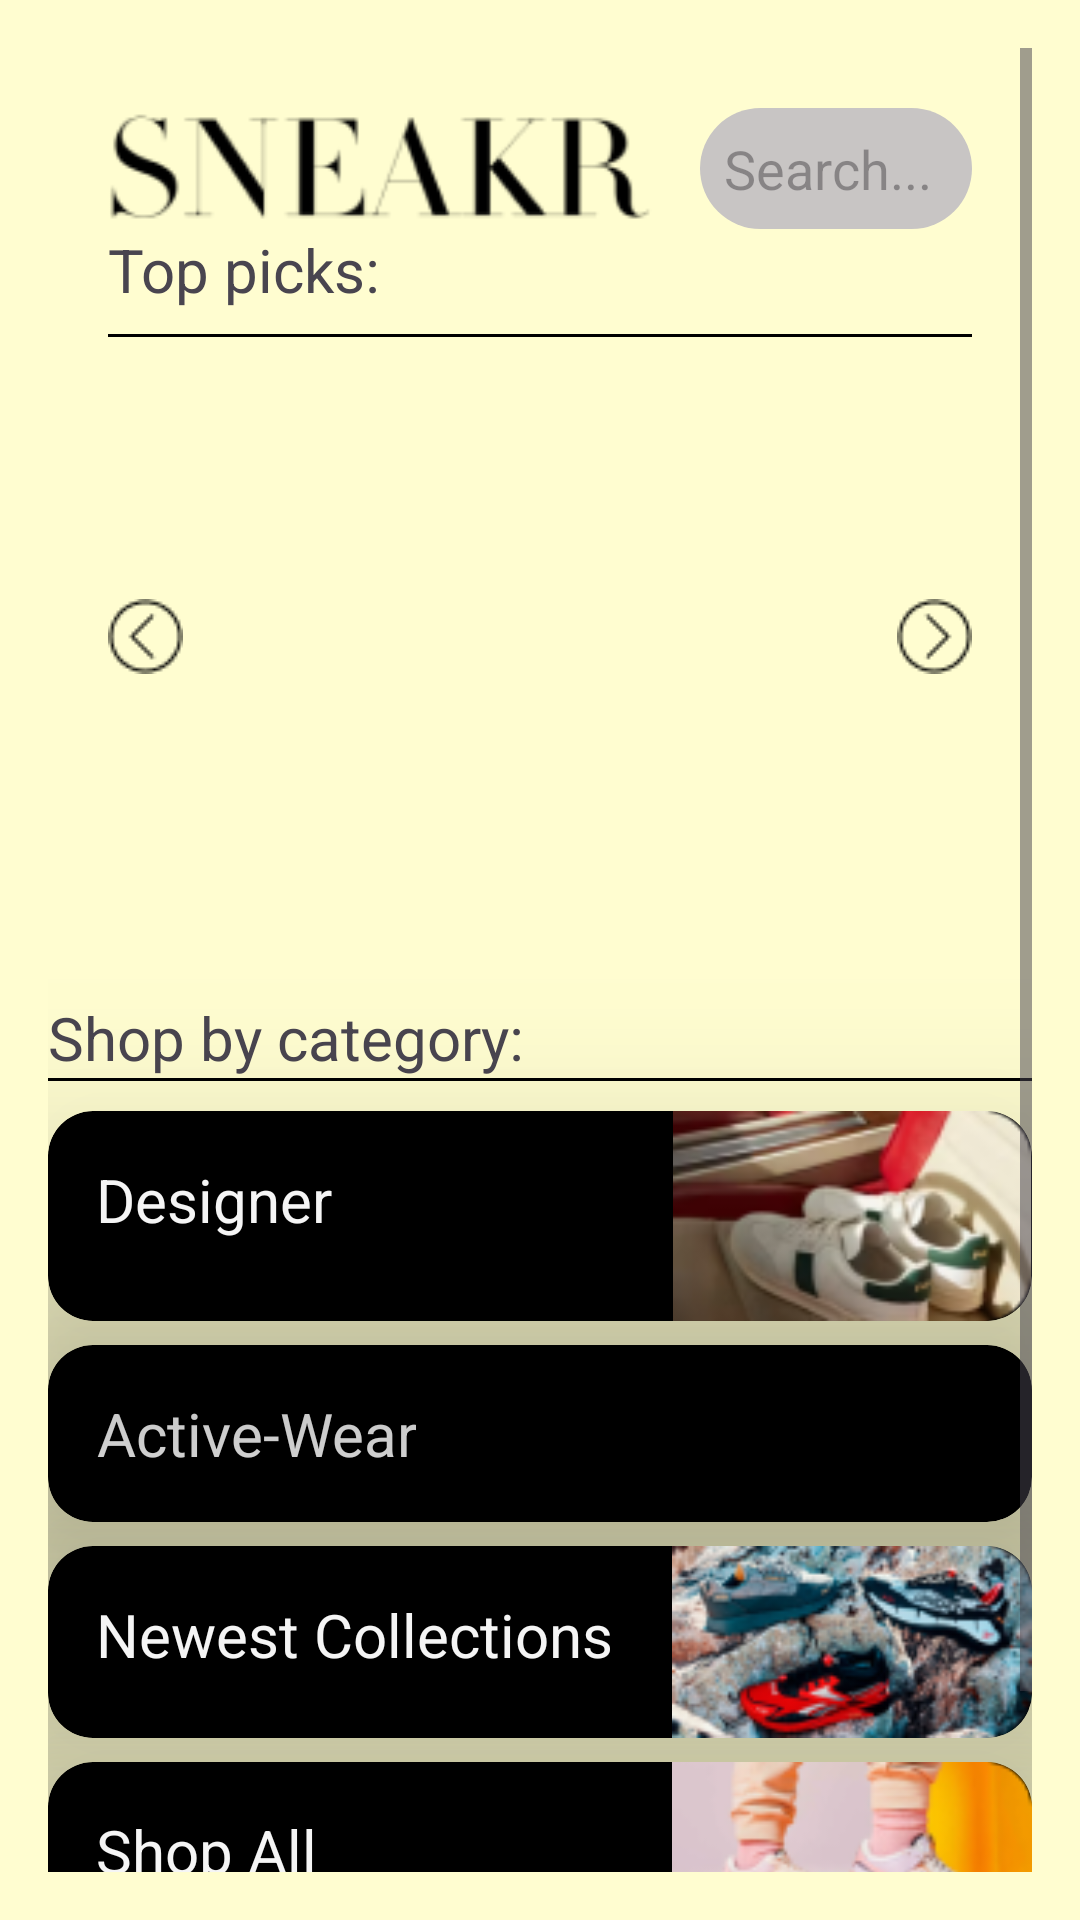

Named icons in this screenshot (1080 x 1920) and their centers, (x=x, y=y):
left arrow: (x=145, y=636)
right arrow: (x=934, y=636)
sneakers: (x=852, y=1216)
